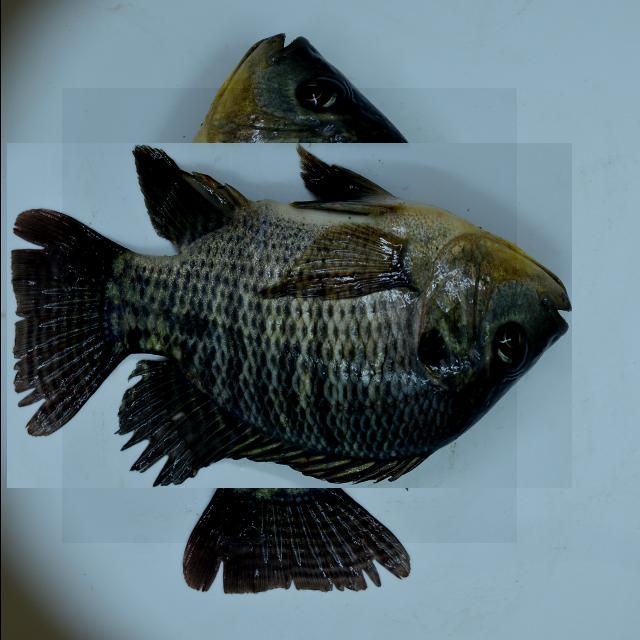Healthy Fish: (61, 88, 516, 543)
